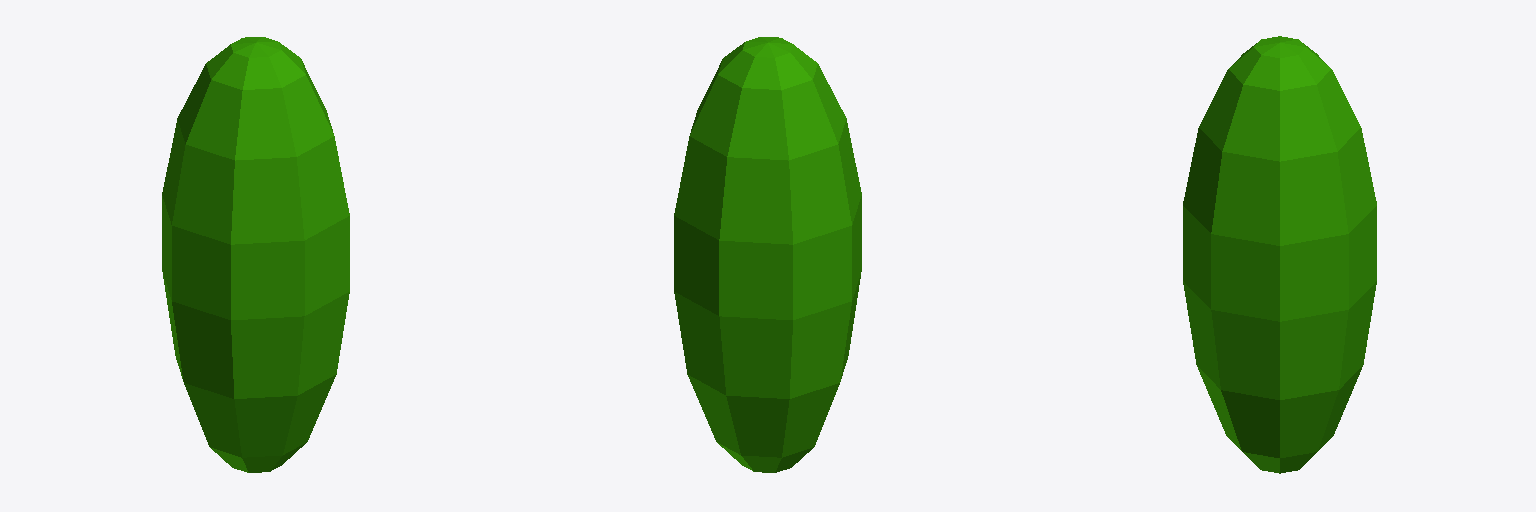
The model's file is tree_t1.obj.
The picture shows the model from 3 angles: view 1: azimuth 30°, elevation 25°; view 2: azimuth 150°, elevation 25°; view 3: azimuth 270°, elevation 25°; orthographic projection.
Parts seen in each view (by area): view 1: Tree_A_Circle.005; view 2: Tree_A_Circle.005; view 3: Tree_A_Circle.005.
Boxes of the visible parts, <box> form: Tree_A_Circle.005: <box>162,37,349,472</box>; Tree_A_Circle.005: <box>674,37,861,472</box>; Tree_A_Circle.005: <box>1183,36,1376,473</box>.
Size of the model in its own units: 0.5959 by 1.44 by 0.5959.